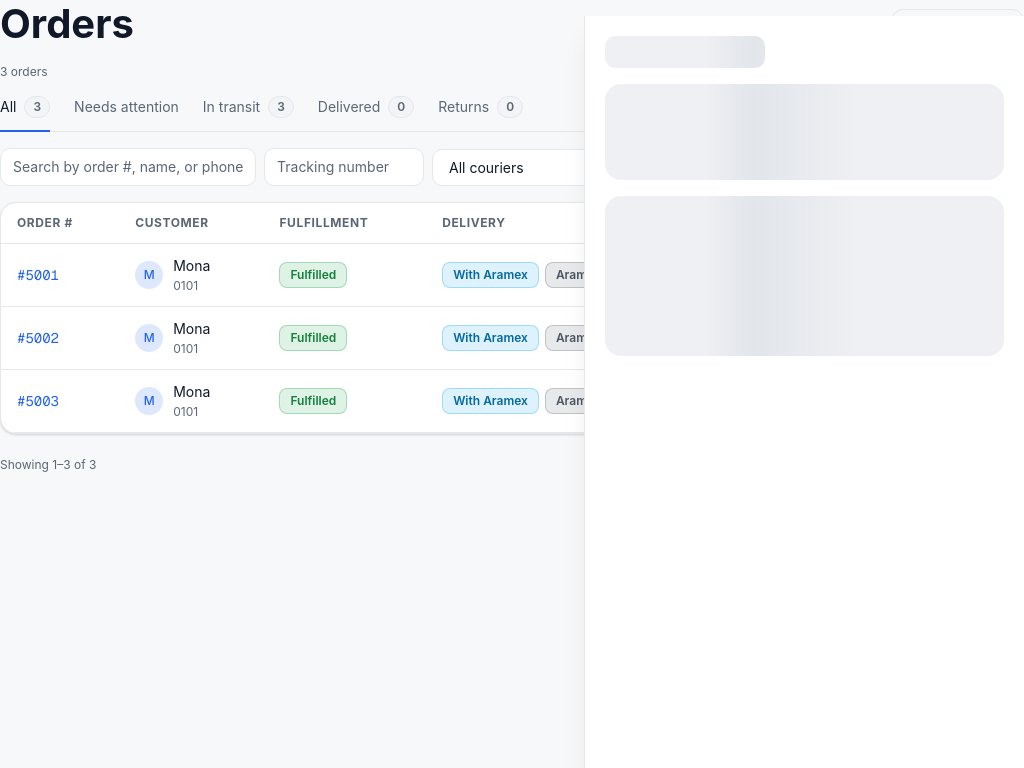
it: Orders › With <carrier> + Mark delivered › filter by carrier, select, confirm: sends the selected ids and reports the outcome
Select "With Aramex (2)" in the dropdown with test id "orders-carrier-filter" at (544, 167), box [432,148,656,186]
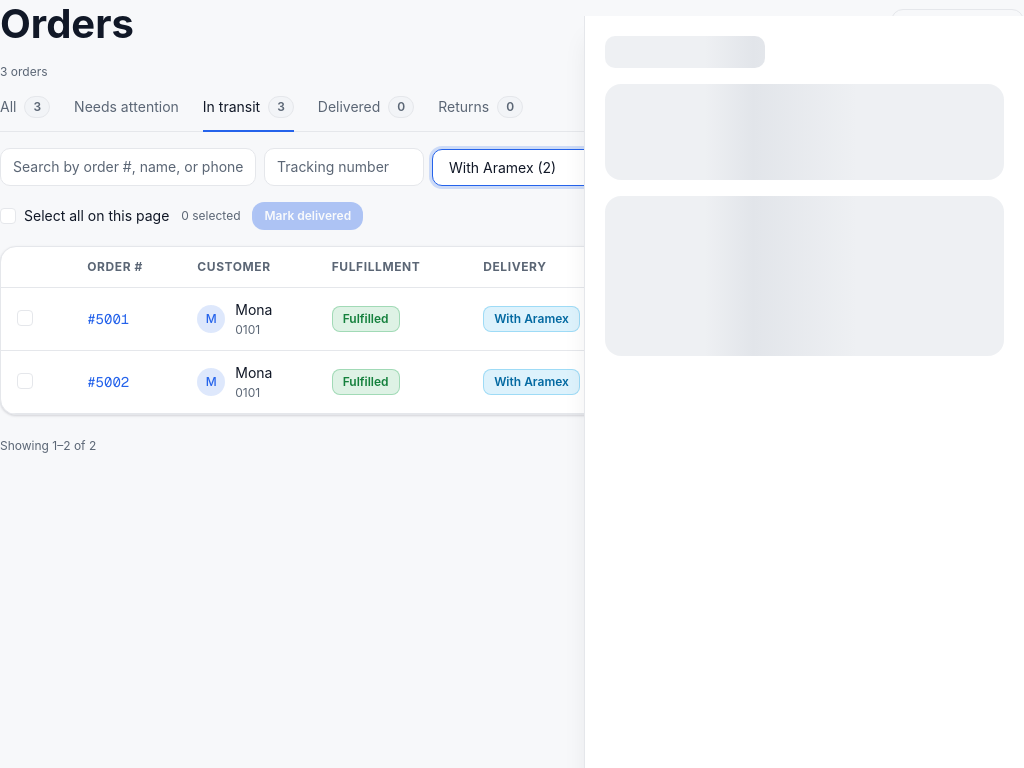
expect the button "Mark delivered" is disabled: met, box [252,202,363,230]
Click the 2nd checkbox.
click(29, 316)  # box [17,308,41,326]
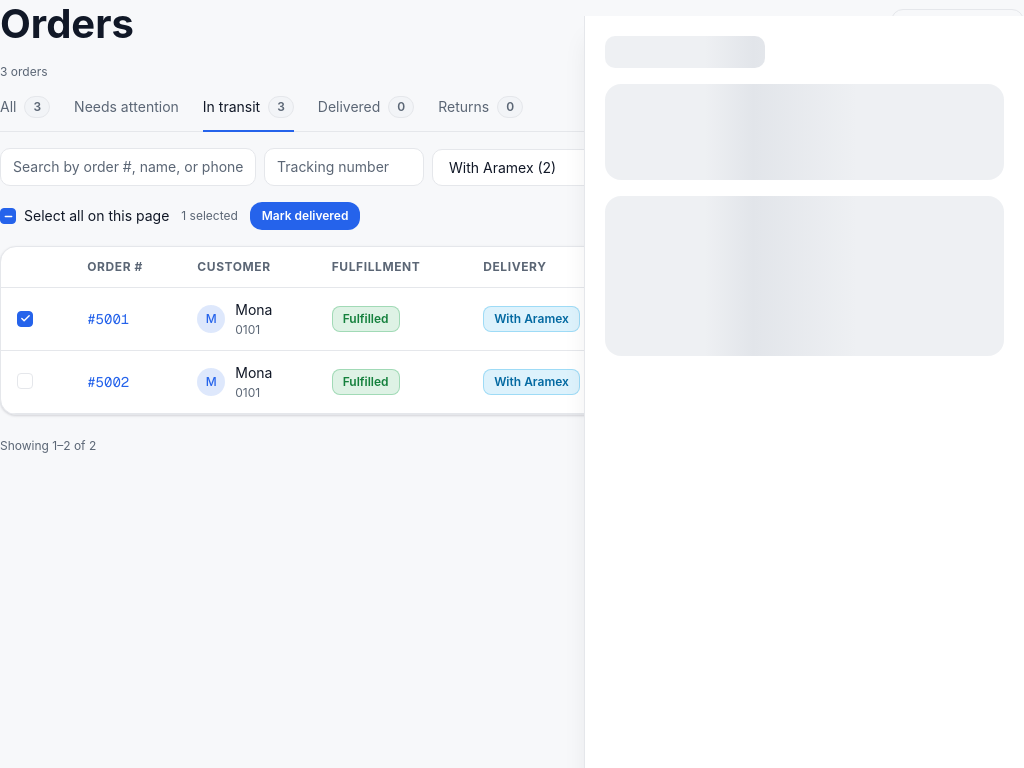
Click the 3rd checkbox.
click(29, 380)  # box [17,370,41,388]
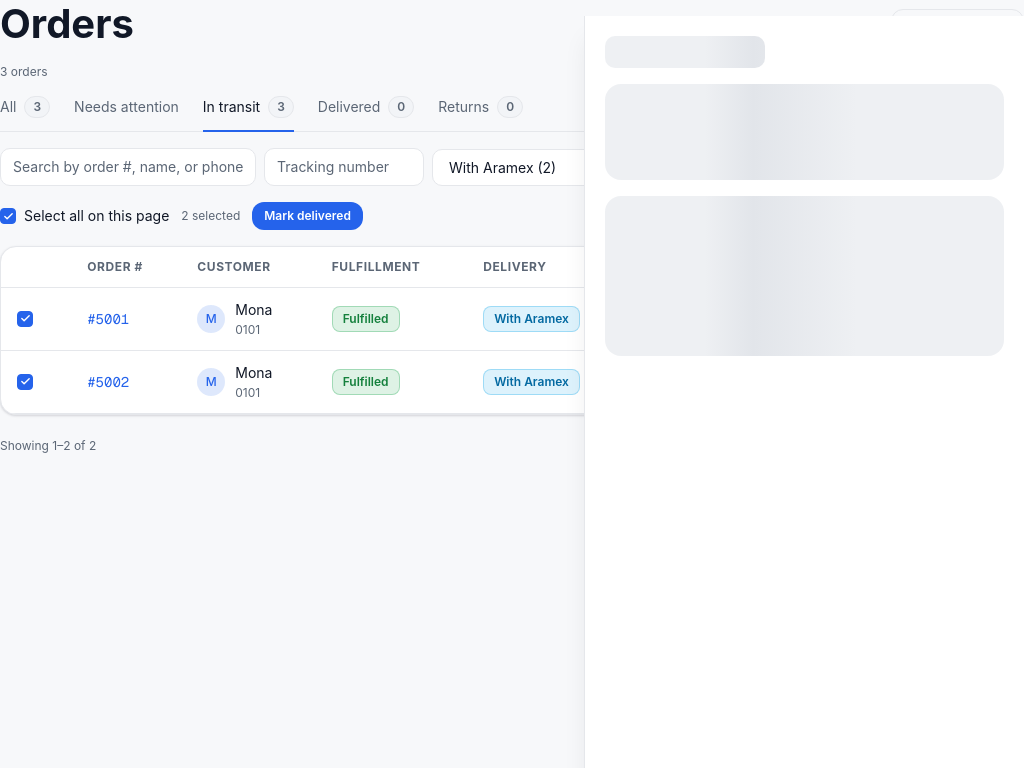
expect the text "2 selected" is shown: met, box [181,208,240,224]
Click the button "Mark delivered".
click(308, 216)  # box [252,202,363,230]
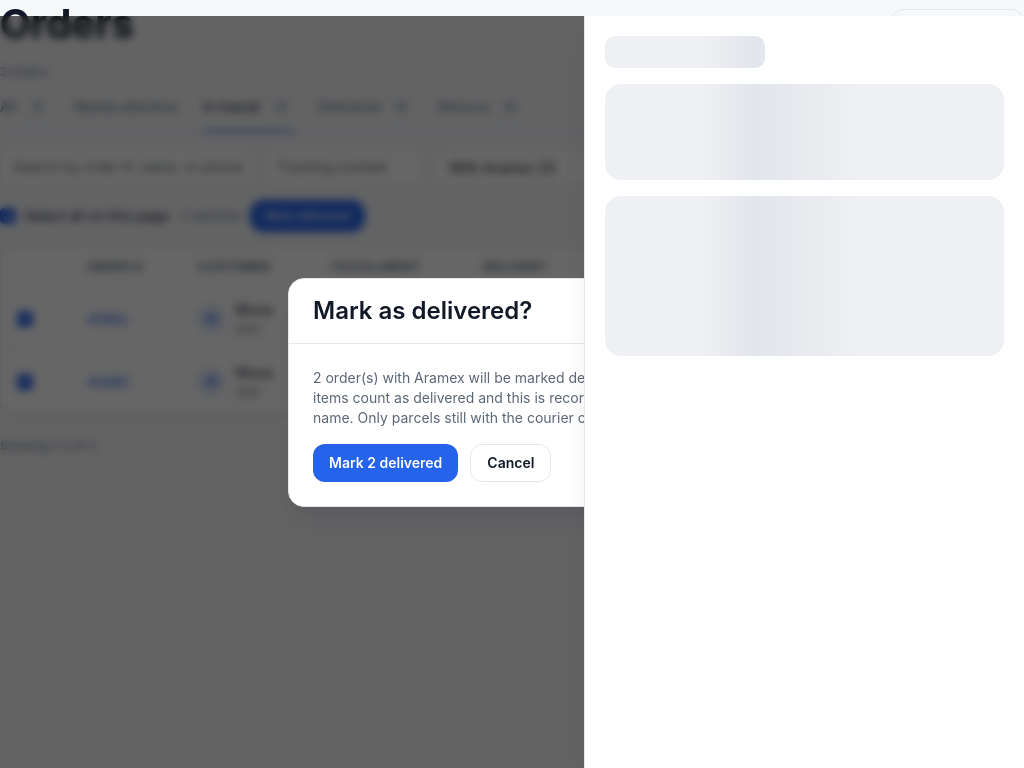
expect the element with test id "orders-mark-confirm" shows "2 order(s) with Aramex will be marked delivered": met, box [313,368,685,426]
Click the button "Mark 2 delivered".
click(386, 462)  # box [313,444,458,482]
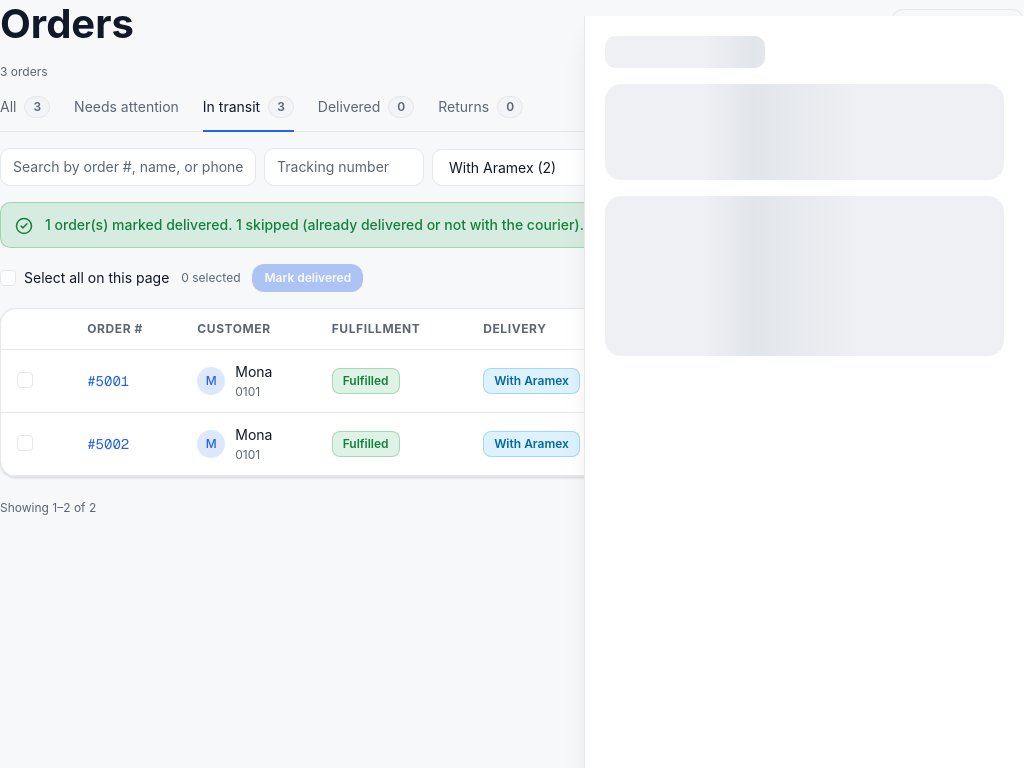
expect the text "1 order(s) marked delivered. 1 skipped (already delivered or not with the courier)." is shown: met, box [45,216,584,233]
expect the element with test id "orders-mark-confirm" is gone: met
